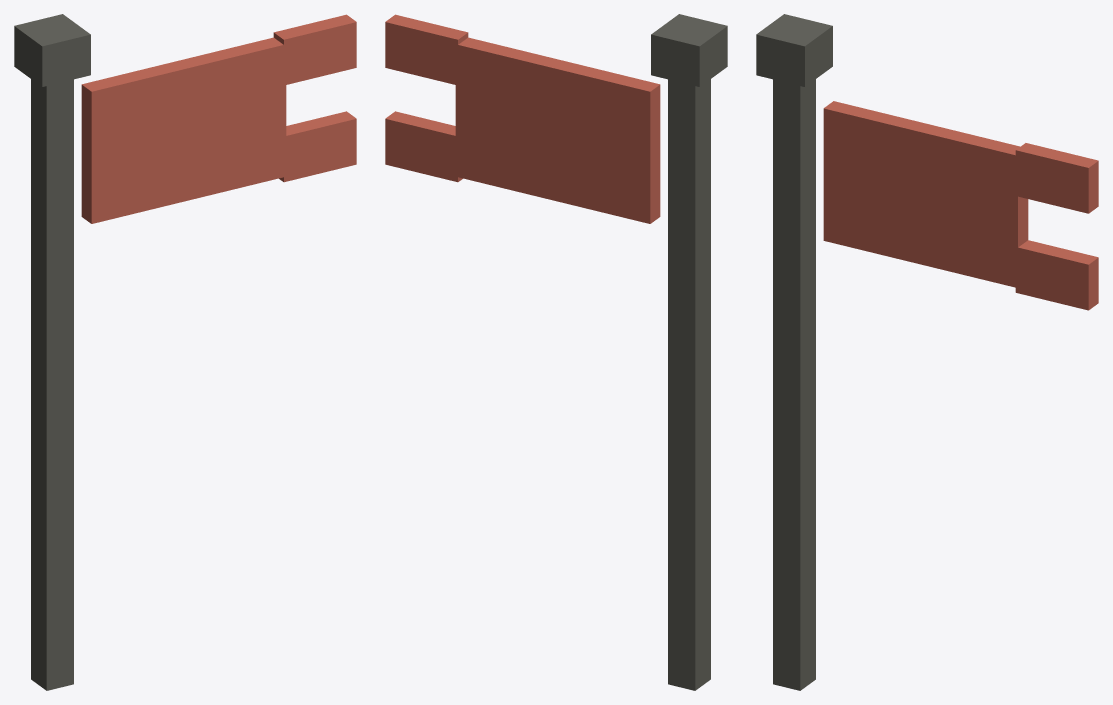
The model's file is flag.glb.
The picture shows the model from 3 angles, left to right: view 1: azimuth 30°, elevation 25°; view 2: azimuth 150°, elevation 25°; view 3: azimuth 330°, elevation 25°; orthographic projection.
Visible parts, largest first — view 1: Flag, accent_Flag; view 2: Flag, accent_Flag; view 3: Flag, accent_Flag.
Part boxes in pixels (<box>): Flag: <box>81,14,356,223</box>; accent_Flag: <box>14,14,90,690</box>; Flag: <box>385,14,660,223</box>; accent_Flag: <box>651,14,727,690</box>; Flag: <box>823,101,1098,310</box>; accent_Flag: <box>756,14,832,690</box>.
Bounding box in the file's own units: 0.3325 × 0.64 × 0.05.
